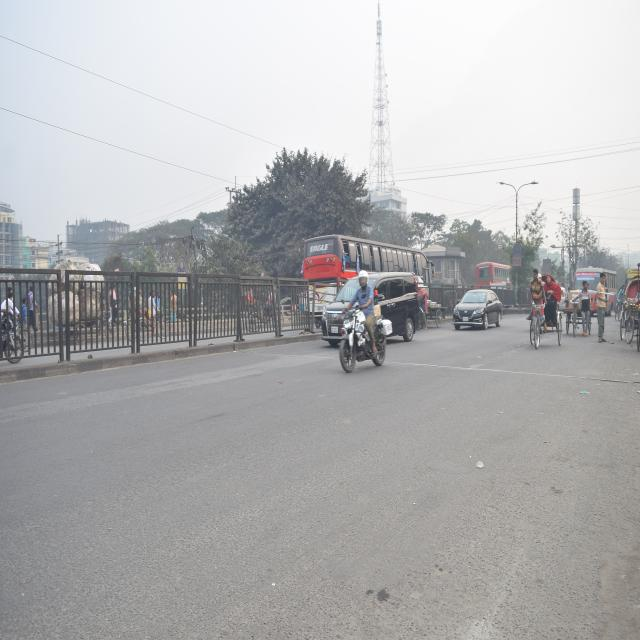car: (306, 263, 426, 336), (453, 266, 507, 354)
motorbike: (333, 304, 400, 376)
